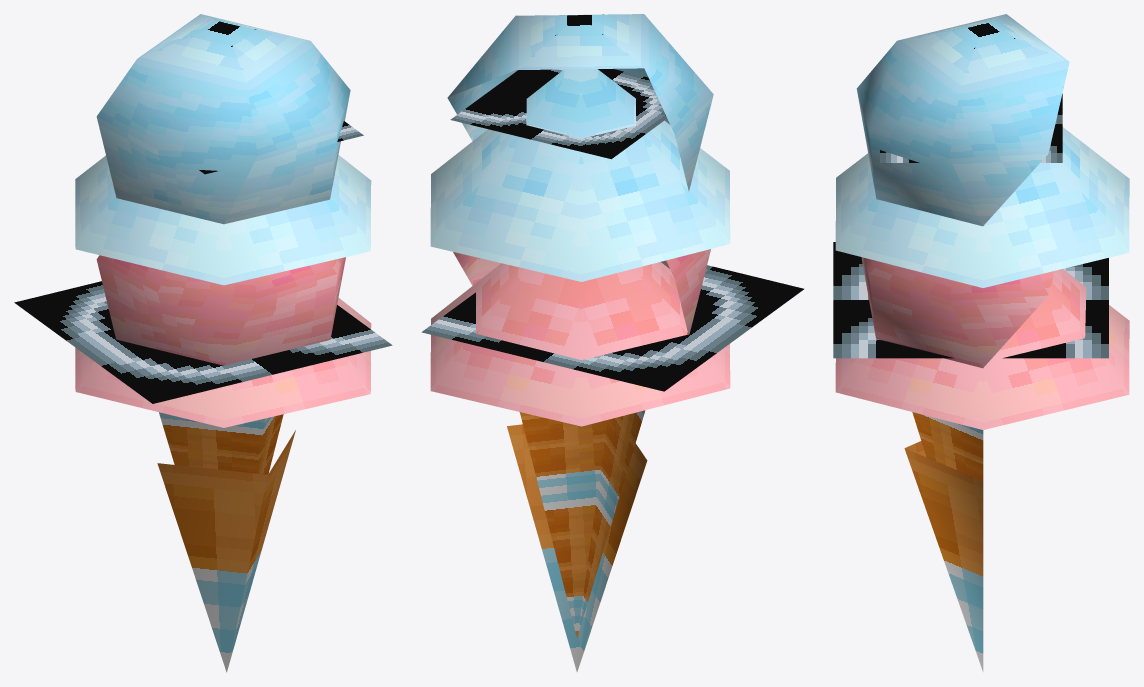
The picture shows the model from 3 angles, left to right: view 1: azimuth 30°, elevation 25°; view 2: azimuth 150°, elevation 25°; view 3: azimuth 270°, elevation 25°; orthographic projection.
Visible parts, largest first — view 1: 5604u_ice00_hs; view 2: 5604u_ice00_hs; view 3: 5604u_ice00_hs.
Part boxes in pixels (<box>): 5604u_ice00_hs: <box>14,14,392,672</box>; 5604u_ice00_hs: <box>421,14,803,672</box>; 5604u_ice00_hs: <box>833,14,1129,671</box>.
Bounding box in the file's own units: 0.4375 × 0.9199 × 0.3818.
6 materials, 6 textured.
